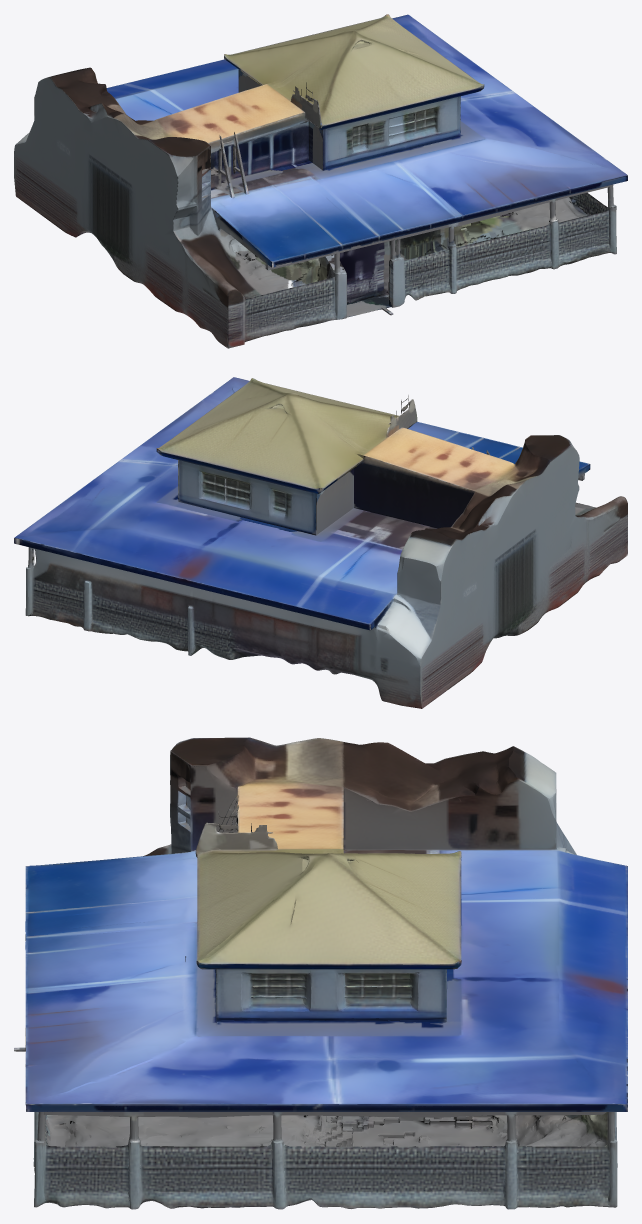
File: base_basic_pbr.fbx
The picture shows the model from 3 angles, top to bottom: view 1: azimuth 30°, elevation 25°; view 2: azimuth 150°, elevation 25°; view 3: azimuth 270°, elevation 25°; orthographic projection. The views are drawn at different scales.
Visible parts, largest first — view 1: model; view 2: model; view 3: model.
Boxes of the visible parts, x1,y1,x2,y2 form: model: [14, 14, 627, 348]; model: [14, 377, 627, 708]; model: [14, 737, 627, 1209].
Bounding box in the file's own units: 190 × 84.38 × 184.
1 material, 1 textured.
